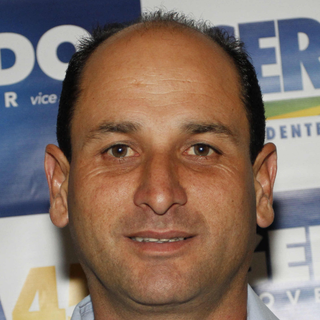eye: (180, 139, 226, 164), (97, 140, 142, 164)
